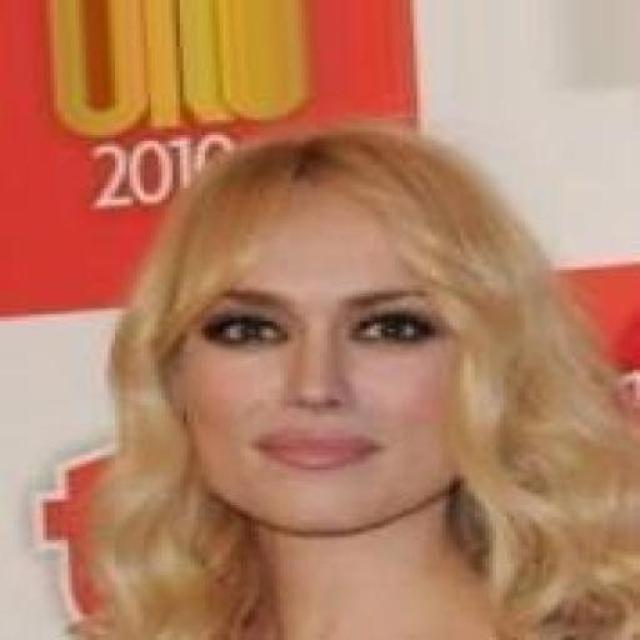bareface: (184, 181, 464, 568)
